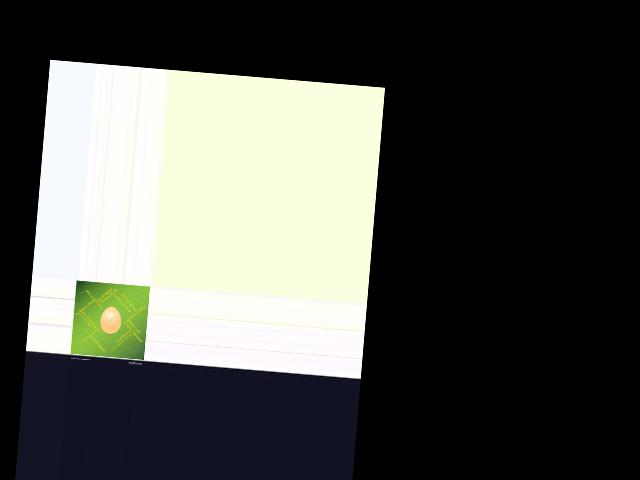egg: (98, 306, 121, 334)
